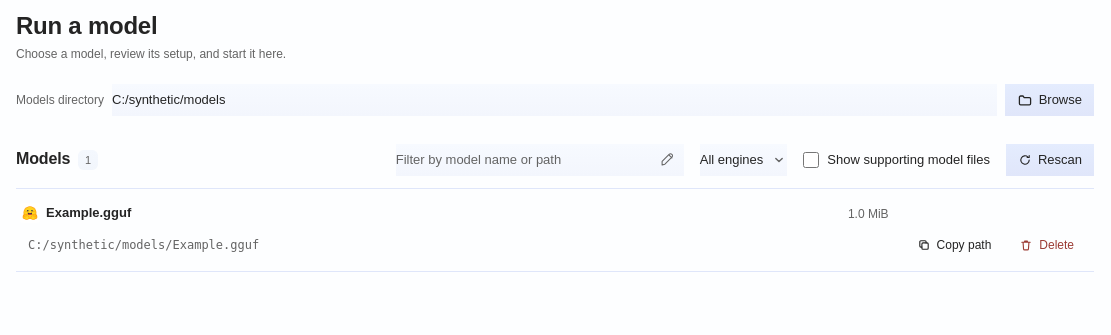
it: model library empty results and filter recovery › explains query no-matches in en and restores the scanned rows without changing the folder
The width and height of the screenshot is (1111, 335).
Type "nothing matches" into the field named "Search models" at (540, 160), box [396,144,684,176]
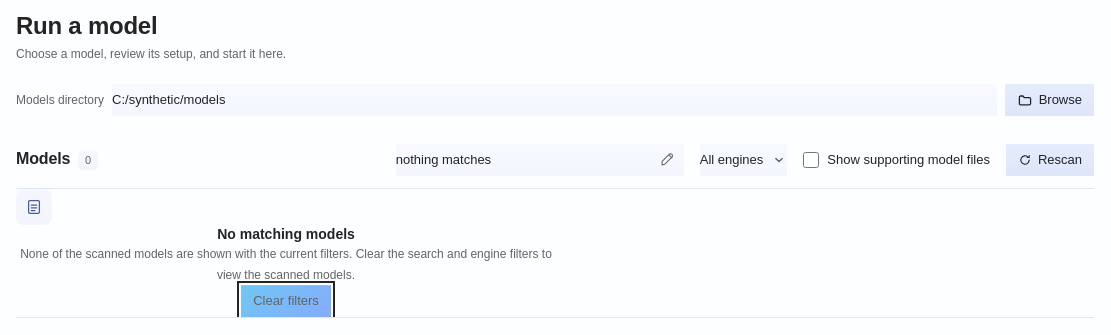
Result: the heading "No matching models" is shown at [217,226,355,242]
Result: the text "None of the scanned models are shown with the current filters. Clear the search and engine filters to view the scanned m" is shown at [20,247,552,282]
Click the button "Clear filters" at (286, 301), box [241,285,331,317]
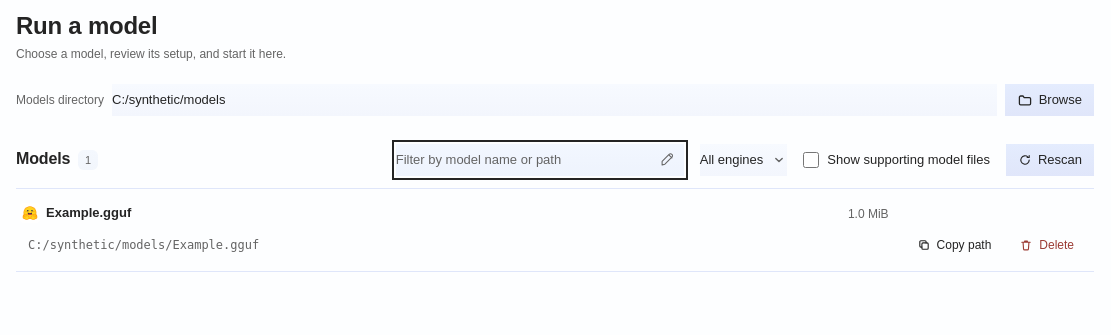
Expected: the checkbox labelled "Show supporting model files" is not checked, [803,152,819,168]
Result: the field named "Search models" is empty at [396,144,684,176]
Result: the number of list items is 1 at [16,189,1094,271]
